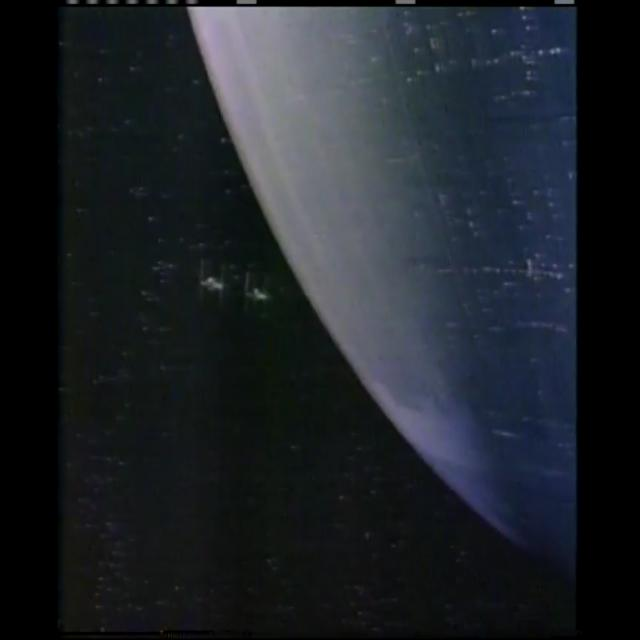death-stars: (187, 7, 577, 572)
